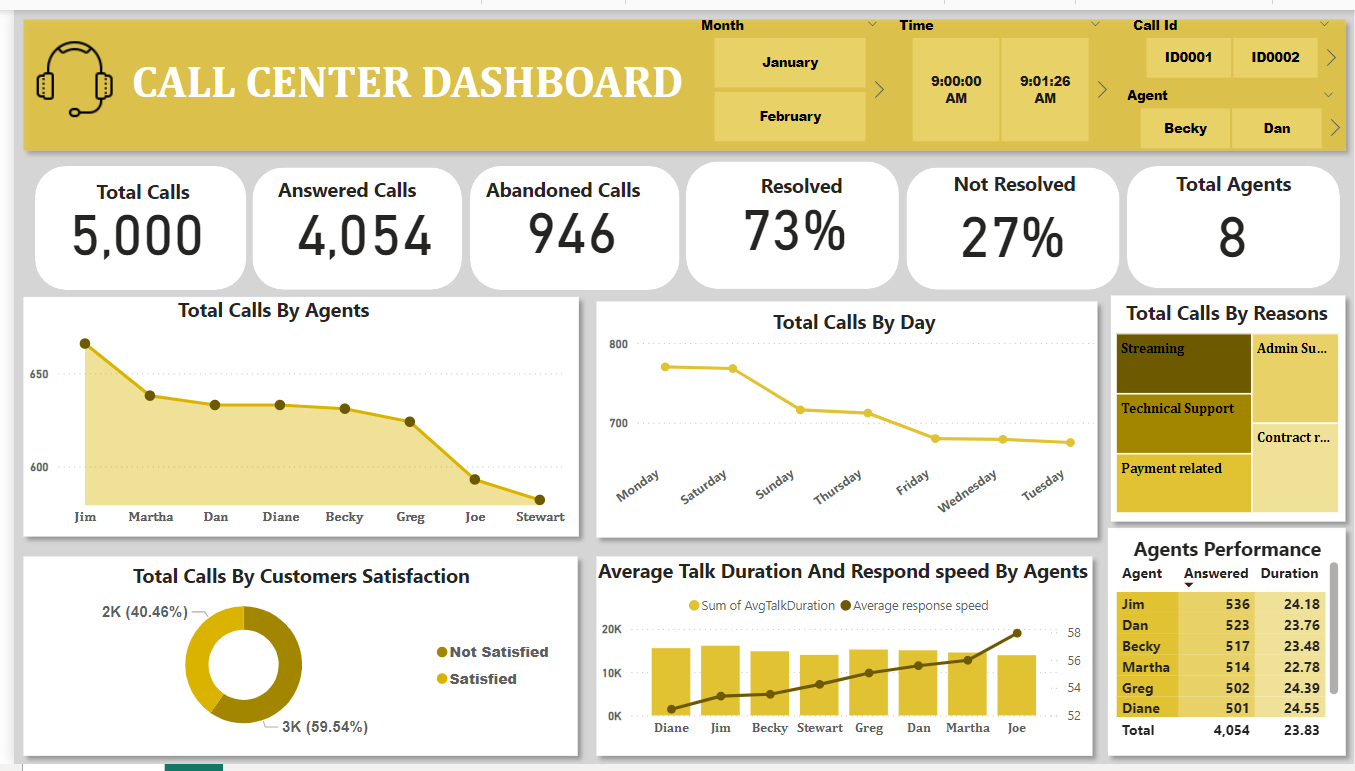

This screenshot's page, from the dashboard's own definition file:
{"tool":"powerbi","page":{"name":"Call Trend","canvas":[1280,720],"ordinal":0},"visuals":[{"type":"shape","box":[0,0,1280.4,143.2],"z":0},{"type":"slicer","fields":{"Values":["Cleaned Data.Call Id"]},"box":[1056.2,0,213.1,71.6],"z":1000},{"type":"shape","box":[1035,485.1,245,235.4],"z":2000},{"type":"shape","box":[19.4,148.4,201.7,118.3],"z":3000},{"type":"textbox","box":[97,36.6,556.7,68.4],"z":4000},{"type":"shape","box":[228.1,150.4,200,116.7],"z":5000},{"type":"shape","box":[435.1,149.4,200,118.3],"z":6000},{"type":"shape","box":[642.1,144.1,203.3,121.7],"z":7000},{"type":"shape","box":[852.4,149.7,203.3,116.7],"z":8000},{"type":"card","fields":{"Values":["Cleaned Data.Total Calls"]},"box":[15.9,163.8,200.4,89.1],"z":9000},{"type":"textbox","box":[23.9,154.3,197.2,36.6],"z":10000},{"type":"card","fields":{"Values":["Cleaned Data.Total Answered calls"]},"box":[233.8,167,202,79.5],"z":11000},{"type":"card","fields":{"Values":["Cleaned Data.Total Calls Abandoned"]},"box":[431.7,166.7,201.7,78.3],"z":12000},{"type":"textbox","box":[211.1,153.8,214.7,46.1],"z":13000},{"type":"textbox","box":[424.2,153.8,200.4,47.7],"z":14000},{"type":"card","fields":{"Values":["Cleaned Data.%Resolved Calls"]},"box":[653.7,162.2,182.9,82.7],"z":15000},{"type":"textbox","box":[652.2,149.5,200.4,38.2],"z":16000},{"type":"card","fields":{"Values":["Cleaned Data.%Not Resolved Calls"]},"box":[862.1,168.6,181.3,81.1],"z":17000},{"type":"textbox","box":[855.7,147.9,200.4,36.6],"z":18000},{"type":"textbox","box":[1205.7,279.9,58.9,81.1],"z":19000},{"type":"shape","box":[0,265,548.3,246.7],"z":20000},{"type":"shape","box":[547.2,268.8,496.3,243.4],"z":21000},{"type":"shape","box":[0,512.2,547.2,208.4],"z":22000},{"type":"shape","box":[547.2,512.2,491.5,208.4],"z":23000},{"type":"shape","box":[1062.7,149.1,203.3,116.7],"z":24000},{"type":"card","fields":{"Values":["Cleaned Data.Total Agents"]},"box":[1068.9,171.8,189.3,74.8],"z":25000},{"type":"textbox","box":[1062.5,147.9,203.6,42.9],"z":26000},{"type":"lineChart","fields":{"Category":["Cleaned Data.Agent"],"Y":["Cleaned Data.Total Calls"]},"box":[8.3,280,525,218.3],"z":27000},{"type":"textbox","box":[146.7,268.3,203.3,70],"z":28000},{"type":"donutChart","fields":{"Y":["Cleaned Data.Total Calls"],"Category":["Cleaned Data.Customer Satisfaction"]},"box":[30.2,548.8,494.7,152.7],"z":29000},{"type":"textbox","box":[22.3,521.7,502.6,39.8],"z":30000},{"type":"lineChart","fields":{"Category":["Cleaned Data.Day"],"Y":["Cleaned Data.Total Calls"]},"box":[555.1,303.8,483.5,194.1],"z":31000},{"type":"slicer","fields":{"Values":["Cleaned Data.Date.Variation.Date Hierarchy.Month"]},"box":[642.6,0,194.1,132],"z":32000},{"type":"slicer","fields":{"Values":["Cleaned Data.Time"]},"box":[831.9,0,217.9,132],"z":33000},{"type":"textbox","box":[707.8,279.9,189.3,36.6],"z":34000},{"type":"lineClusteredColumnComboChart","fields":{"Y":["Cleaned Data.AvgTalkDuration"],"Y2":["Cleaned Data.Average response speed"],"Category":["Cleaned Data.Agent"]},"box":[555.1,548.8,467.6,152.7],"z":35000},{"type":"shape","box":[1037.9,264,241.8,233.8],"z":36000},{"type":"treemap","fields":{"Group":["Cleaned Data.Call Reason"],"Values":["Cleaned Data.Total Calls"]},"box":[1046.6,303.8,222.7,181.3],"z":37000},{"type":"textbox","box":[1049.8,270.4,216.3,50.9],"z":38000},{"type":"textbox","box":[547.2,516.9,488.3,49.3],"z":39000},{"type":"tableEx","fields":{"Values":["Cleaned Data.Agent","Cleaned Data.Total Answered calls","Cleaned Data.AvgTalkDuration"]},"box":[1046.6,521.7,222.7,179.7],"z":40000},{"type":"textbox","box":[1045,496.3,225.9,46.1],"z":41000},{"type":"image","box":[8,0,98.6,132],"z":42000},{"type":"slicer","fields":{"Values":["Cleaned Data.Agent"]},"box":[1049.8,66.8,222.7,71.6],"z":43000}]}

Visuals, with their boxes in screenshot pixels (x1, y1, x2, y2), scaled from the page's 1280x720 canvas onto the 1355x771 screenshot:
shape: bbox=(0, 0, 1354, 153)
slicer - Cleaned Data.Call Id: bbox=(1118, 0, 1344, 77)
shape: bbox=(1096, 519, 1354, 770)
shape: bbox=(21, 159, 234, 286)
textbox: bbox=(103, 39, 692, 112)
shape: bbox=(241, 161, 453, 286)
shape: bbox=(461, 160, 672, 287)
shape: bbox=(680, 154, 895, 285)
shape: bbox=(902, 160, 1118, 285)
card - Cleaned Data.Total Calls: bbox=(17, 175, 229, 271)
textbox: bbox=(25, 165, 234, 204)
card - Cleaned Data.Total Answered calls: bbox=(247, 179, 461, 264)
card - Cleaned Data.Total Calls Abandoned: bbox=(457, 179, 671, 262)
textbox: bbox=(223, 165, 451, 214)
textbox: bbox=(449, 165, 661, 216)
card - Cleaned Data.%Resolved Calls: bbox=(692, 174, 886, 262)
textbox: bbox=(690, 160, 903, 201)
card - Cleaned Data.%Not Resolved Calls: bbox=(913, 181, 1105, 267)
textbox: bbox=(906, 158, 1118, 198)
textbox: bbox=(1276, 300, 1339, 387)
shape: bbox=(0, 284, 580, 548)
shape: bbox=(579, 288, 1105, 548)
shape: bbox=(0, 548, 579, 770)
shape: bbox=(579, 548, 1100, 770)
shape: bbox=(1125, 160, 1340, 285)
card - Cleaned Data.Total Agents: bbox=(1132, 184, 1332, 264)
textbox: bbox=(1125, 158, 1340, 204)
lineChart - Cleaned Data.Agent x Cleaned Data.Total Calls: bbox=(9, 300, 565, 534)
textbox: bbox=(155, 287, 371, 362)
donutChart - Cleaned Data.Total Calls x Cleaned Data.Customer Satisfaction: bbox=(32, 588, 556, 751)
textbox: bbox=(24, 559, 556, 601)
lineChart - Cleaned Data.Day x Cleaned Data.Total Calls: bbox=(588, 325, 1099, 533)
slicer - Cleaned Data.Date.Variation.Date Hierarchy.Month: bbox=(680, 0, 886, 141)
slicer - Cleaned Data.Time: bbox=(881, 0, 1111, 141)
textbox: bbox=(749, 300, 950, 339)
lineClusteredColumnComboChart - Cleaned Data.AvgTalkDuration x Cleaned Data.Average response speed: bbox=(588, 588, 1083, 751)
shape: bbox=(1099, 283, 1354, 533)
treemap - Cleaned Data.Call Reason x Cleaned Data.Total Calls: bbox=(1108, 325, 1344, 519)
textbox: bbox=(1111, 290, 1340, 344)
textbox: bbox=(579, 554, 1096, 606)
tableEx - Cleaned Data.Agent x Cleaned Data.Total Answered calls: bbox=(1108, 559, 1344, 751)
textbox: bbox=(1106, 531, 1345, 581)
image: bbox=(8, 0, 113, 141)
slicer - Cleaned Data.Agent: bbox=(1111, 72, 1347, 148)
